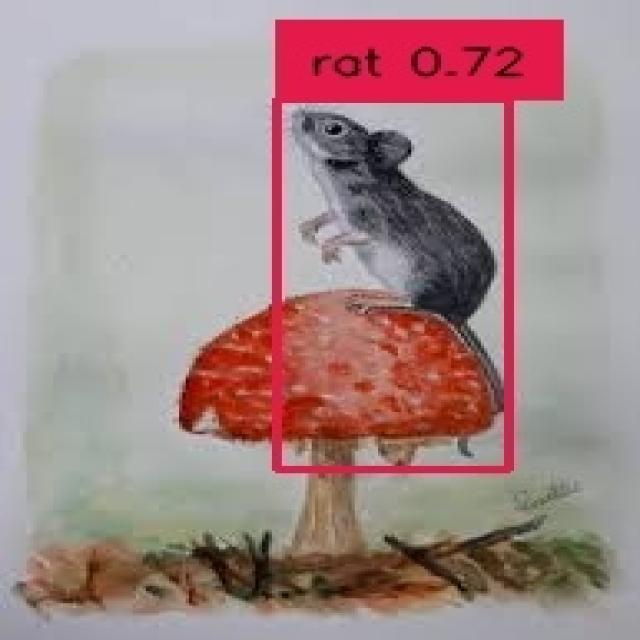rat: (272, 96, 504, 466)
